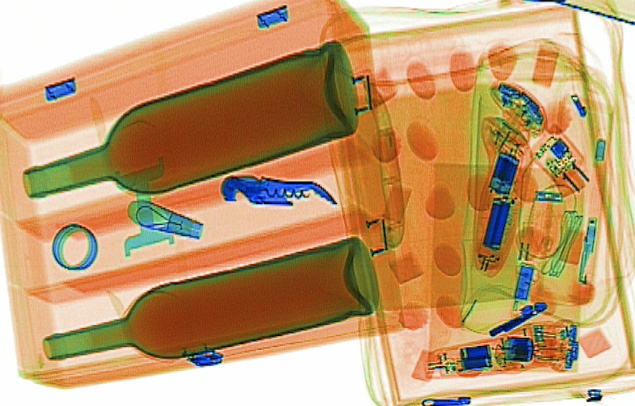knife: (221, 174, 340, 207)
